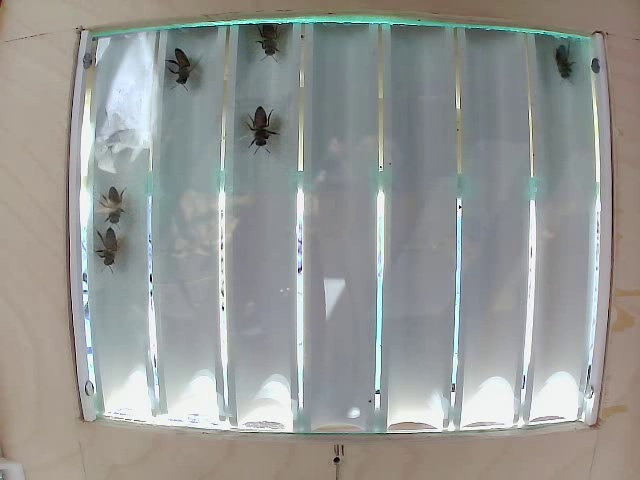bee: (548, 27, 585, 104), (78, 220, 133, 268), (243, 99, 279, 151), (100, 183, 136, 222), (169, 54, 203, 90), (251, 23, 284, 54)
